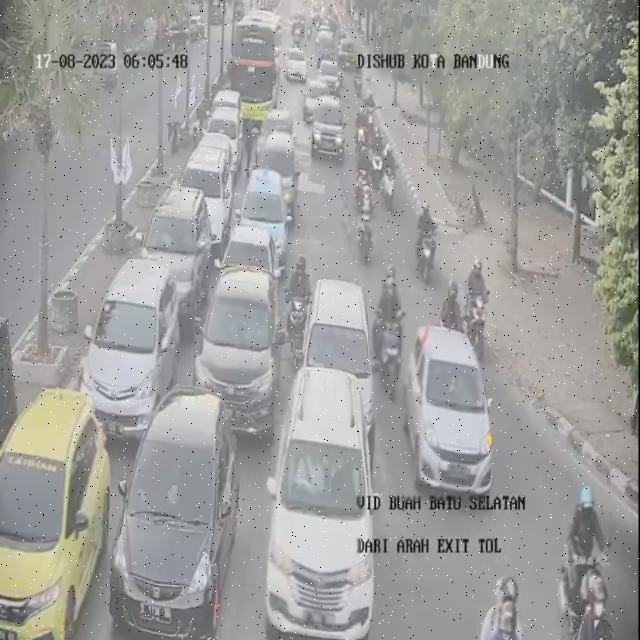bus: (230, 12, 284, 129)
cars: (115, 389, 241, 640), (0, 377, 106, 625), (260, 369, 361, 629), (81, 261, 182, 419), (400, 315, 484, 501), (196, 261, 280, 435), (298, 272, 372, 442), (152, 178, 211, 311), (182, 143, 233, 241), (213, 224, 275, 290), (242, 170, 284, 256), (200, 110, 249, 183), (258, 135, 298, 216), (311, 91, 340, 166), (262, 108, 298, 150), (302, 72, 326, 121), (321, 54, 345, 102), (210, 86, 242, 119), (284, 44, 310, 82)
motorcycle: (558, 475, 618, 620), (276, 242, 314, 366), (476, 554, 528, 640), (368, 261, 401, 385), (462, 256, 492, 346), (411, 193, 439, 288), (349, 178, 378, 261), (435, 274, 459, 344), (379, 146, 401, 201), (368, 126, 389, 183), (355, 102, 372, 147), (355, 152, 370, 202)
